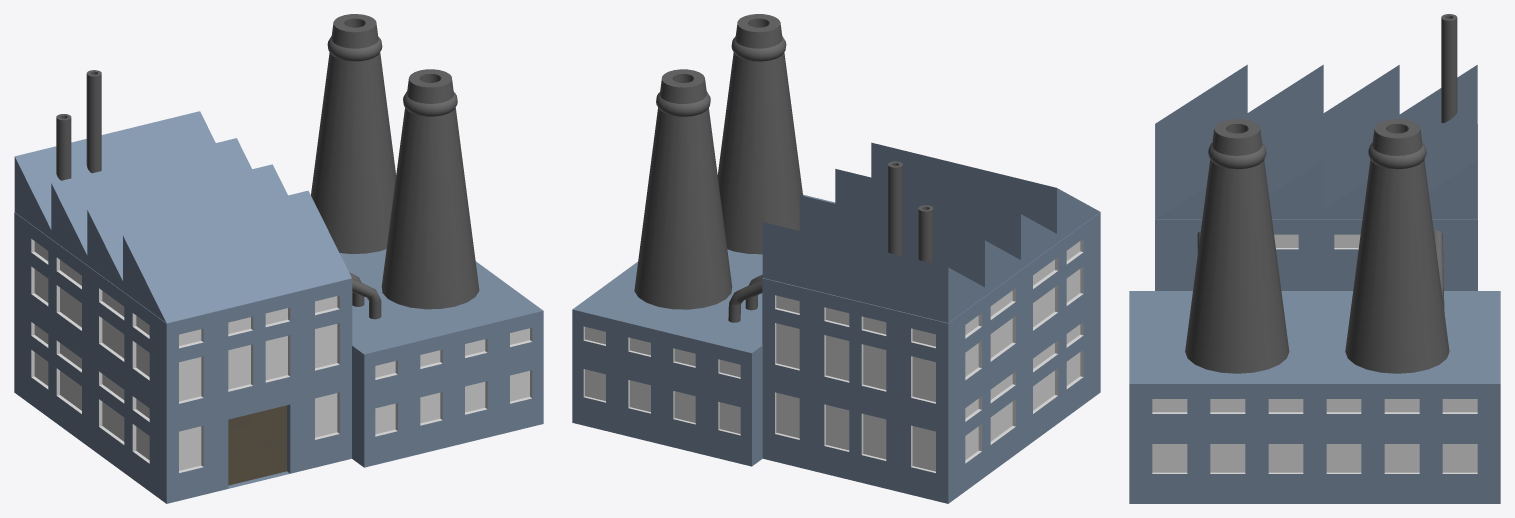
Rendered from Factory.fbx.
3 renders of one model, left to right at view 1: azimuth 30°, elevation 25°; view 2: azimuth 150°, elevation 25°; view 3: azimuth 270°, elevation 25°, orthographic. The views are drawn at different scales.
Parts seen in each view (by area): view 1: pCube12, pCube15, pPrism2, pPipe2, pPipe3, pPrism4, pPrism3, pPrism5, pPipe4, pPipe1, pTorus10, pTorus9 (+1 smaller); view 2: pCube12, pCube15, pPipe3, pPipe2, pPrism5, pPrism2, pPrism3, pPrism4, pPipe4, pPipe1, pTorus9, pTorus10 (+1 smaller); view 3: pCube15, pPipe2, pPipe3, pCube12, pPrism3, pPrism2, pPrism4, pPrism5, pPipe4, pTorus9, pTorus10, pCylinder11.
Boxes of the visible parts, bbox=[...] form: pCube12: bbox=[14, 212, 352, 503]; pCube15: bbox=[339, 249, 543, 467]; pPrism2: bbox=[123, 190, 351, 323]; pPipe2: bbox=[381, 69, 479, 309]; pPipe3: bbox=[311, 14, 396, 253]; pPrism4: bbox=[51, 138, 251, 269]; pPrism3: bbox=[87, 164, 287, 294]; pPrism5: bbox=[14, 111, 215, 243]; pPipe4: bbox=[86, 70, 101, 173]; pPipe1: bbox=[56, 114, 71, 180]; pTorus10: bbox=[327, 36, 382, 61]; pTorus9: bbox=[403, 91, 457, 116]; pCube12: bbox=[762, 212, 1100, 503]; pCube15: bbox=[572, 194, 835, 466]; pPipe3: bbox=[634, 69, 732, 309]; pPipe2: bbox=[717, 14, 802, 254]; pPrism5: bbox=[762, 222, 991, 322]; pPrism2: bbox=[871, 142, 1099, 243]; pPrism3: bbox=[835, 169, 1056, 269]; pPrism4: bbox=[799, 195, 1025, 290]; pPipe4: bbox=[888, 161, 902, 255]; pPipe1: bbox=[918, 205, 933, 263]; pTorus9: bbox=[731, 36, 786, 61]; pTorus10: bbox=[656, 91, 710, 116]; pCube15: bbox=[1129, 291, 1500, 503]; pPipe2: bbox=[1185, 119, 1289, 373]; pPipe3: bbox=[1345, 119, 1449, 373]; pCube12: bbox=[1155, 124, 1477, 290]; pPrism3: bbox=[1247, 64, 1323, 219]; pPrism2: bbox=[1155, 64, 1247, 219]; pPrism4: bbox=[1308, 65, 1399, 219]; pPrism5: bbox=[1399, 65, 1477, 219]; pPipe4: bbox=[1441, 14, 1457, 122]; pTorus9: bbox=[1208, 143, 1266, 169]; pTorus10: bbox=[1368, 143, 1426, 169]; pCylinder11: bbox=[1434, 230, 1444, 312].
Size of the model in its own units: 4.81 by 4.07 by 4.
